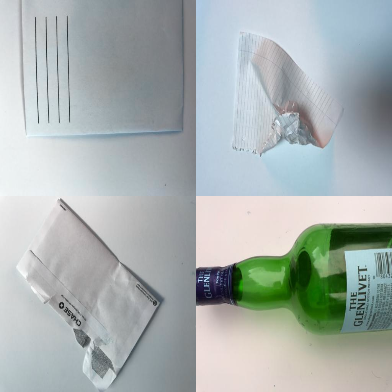glass: (196, 223, 390, 334)
paper: (15, 198, 161, 392), (20, 1, 186, 137), (232, 32, 345, 155)
